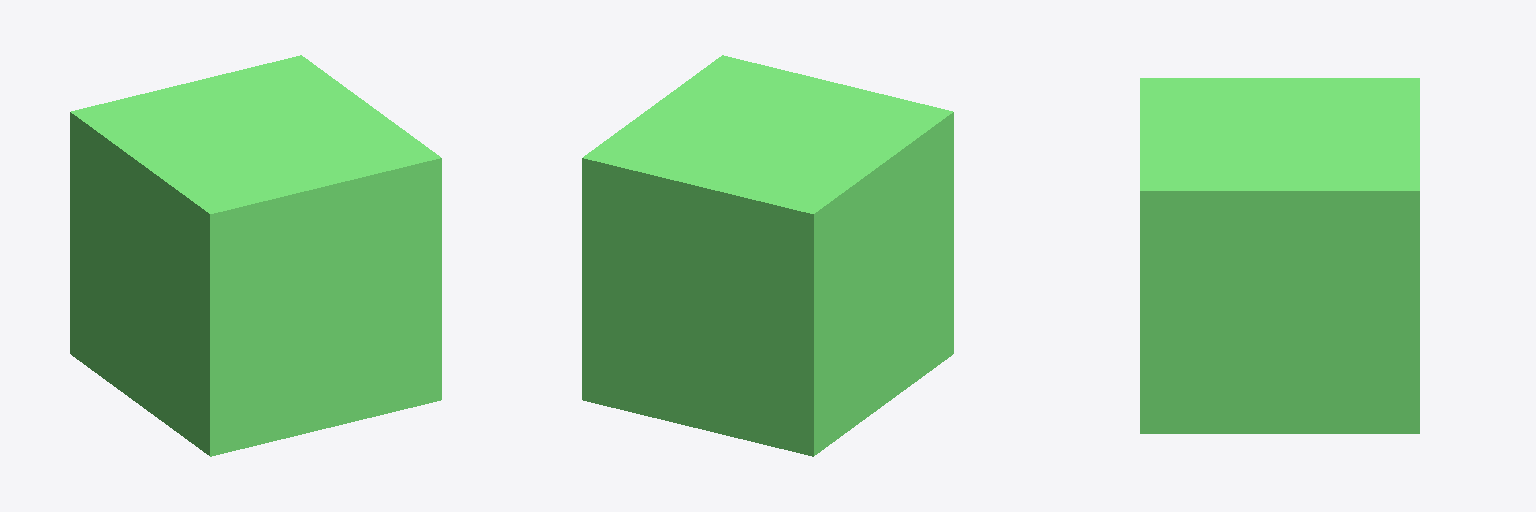
The picture shows the model from 3 angles: view 1: azimuth 30°, elevation 25°; view 2: azimuth 150°, elevation 25°; view 3: azimuth 270°, elevation 25°; orthographic projection.
Parts seen in each view (by area): view 1: object 1; view 2: object 1; view 3: object 1.
Boxes of the visible parts, <box> form: object 1: <box>70,55,441,456</box>; object 1: <box>582,55,953,456</box>; object 1: <box>1140,78,1419,433</box>.
Size of the model in its own units: 2 by 2 by 2.1.
Materials: 1 (1 with a texture image).